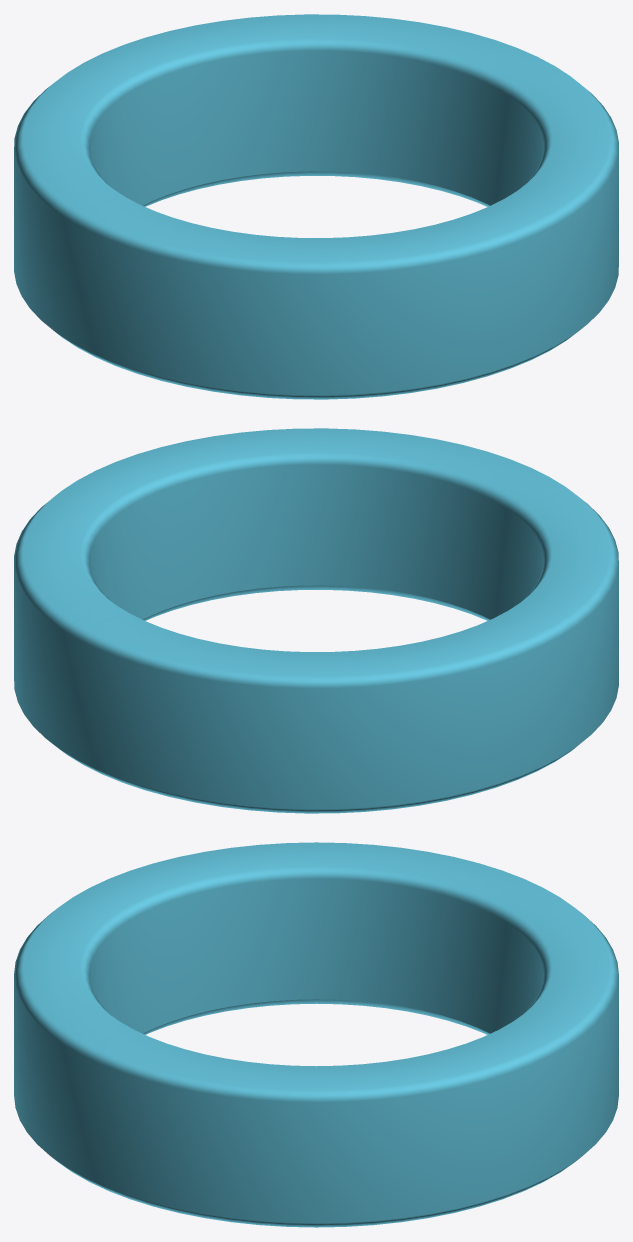
3 views of the same model, one above another, from view 1: azimuth 30°, elevation 25°; view 2: azimuth 150°, elevation 25°; view 3: azimuth 270°, elevation 25° (orthographic).
Parts seen in each view (by area): view 1: seal_body; view 2: seal_body; view 3: seal_body.
Part boxes in pixels (box(x1,y1,x2,y2)): seal_body: box(14, 14, 618, 399); seal_body: box(14, 428, 618, 813); seal_body: box(14, 842, 618, 1227).
Bounding box in the file's own units: 0.0254 × 0.00635 × 0.0254.
